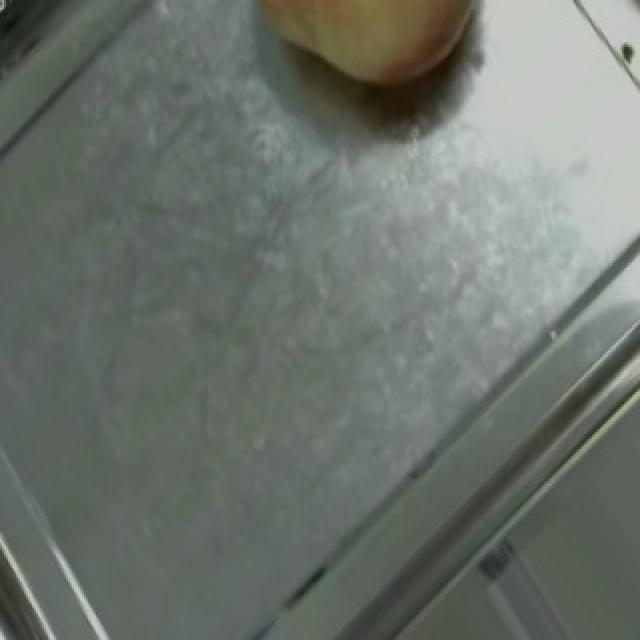Fruit: (214, 0, 508, 124)
